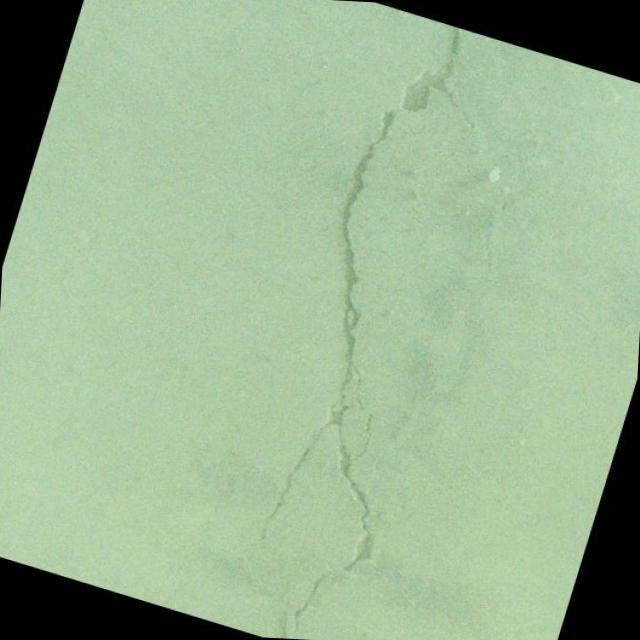crack: (215, 94, 500, 640), (393, 93, 512, 171), (398, 16, 481, 126), (267, 582, 305, 640), (486, 180, 514, 215), (274, 560, 293, 585)
